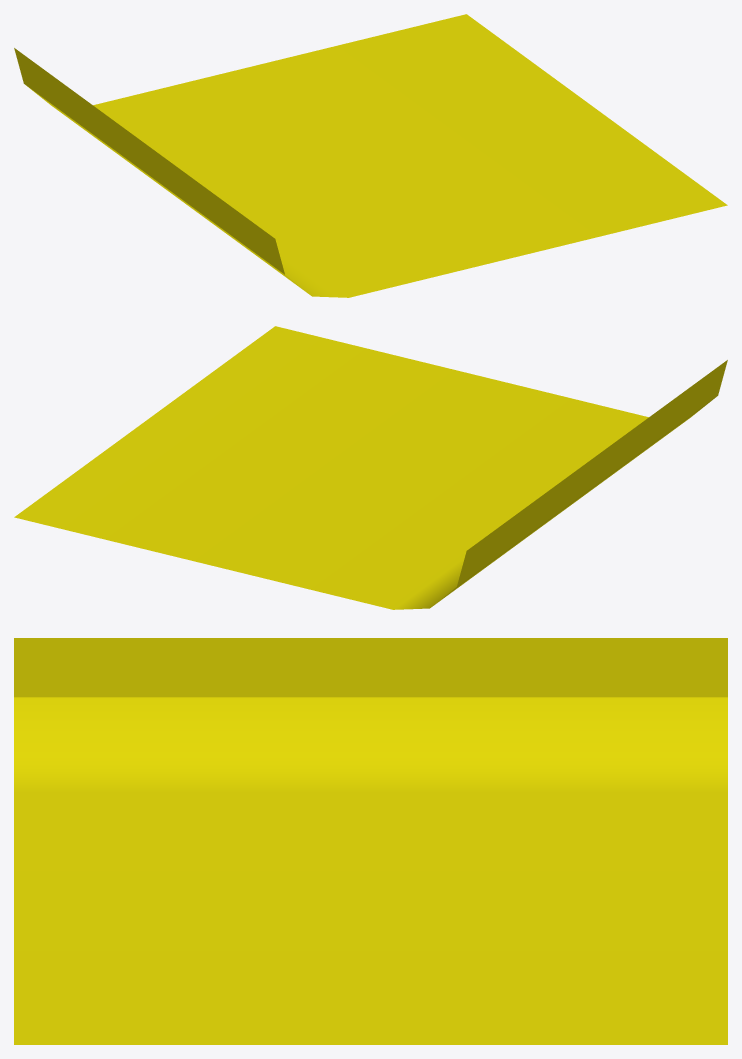
File: Sticky_Note_Curved.fbx
3 views of the same model, one above another, from view 1: azimuth 30°, elevation 25°; view 2: azimuth 150°, elevation 25°; view 3: azimuth 270°, elevation 25° (orthographic). The views are drawn at different scales.
Visible parts, largest first — view 1: pPlane1; view 2: pPlane1; view 3: pPlane1.
Part boxes in pixels (x1,y1,x2,y2): pPlane1: [14, 14, 727, 297]; pPlane1: [14, 326, 727, 609]; pPlane1: [14, 638, 727, 1044].
Bounding box in the file's own units: 1 × 0.1625 × 1.
